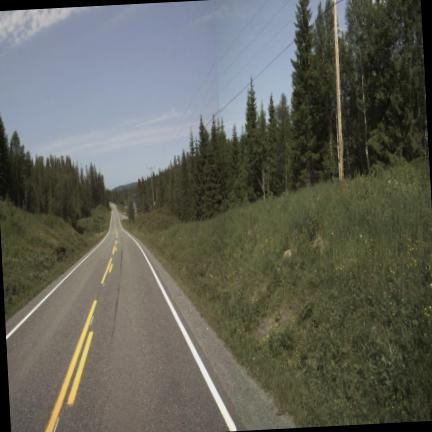Road: (5, 206, 247, 431)
